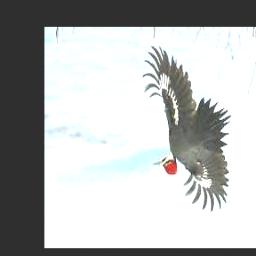Woodpecker: (141, 47, 231, 214)
